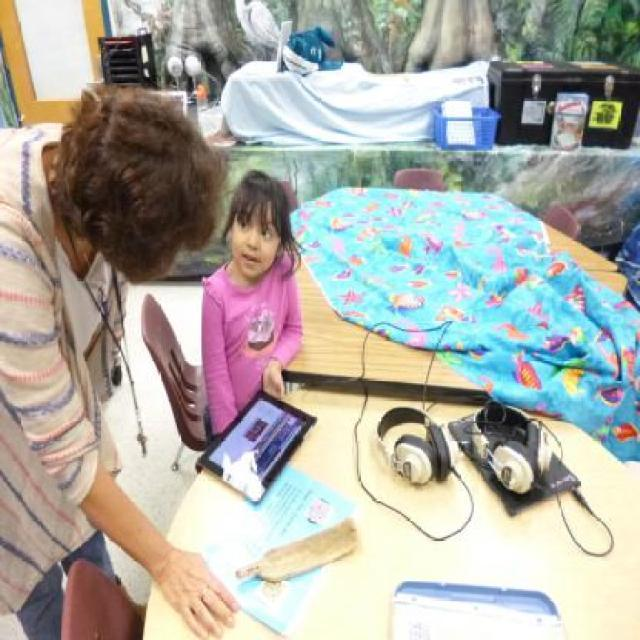earphone: (363, 405, 447, 500), (466, 407, 552, 495)
tablet: (198, 378, 317, 498)
